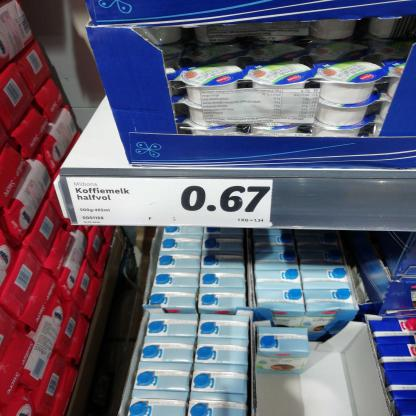prtg: (66, 179, 273, 229)
